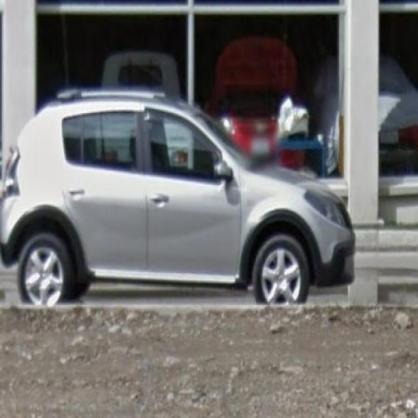car: (1, 89, 359, 311)
